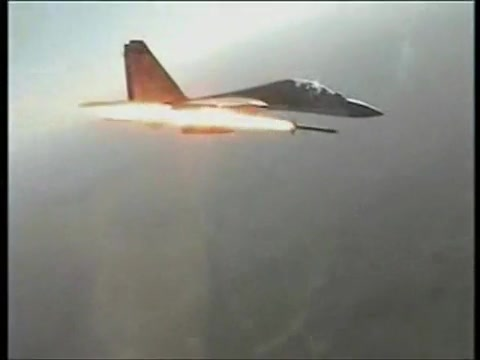aeroplane: (79, 39, 387, 135)
